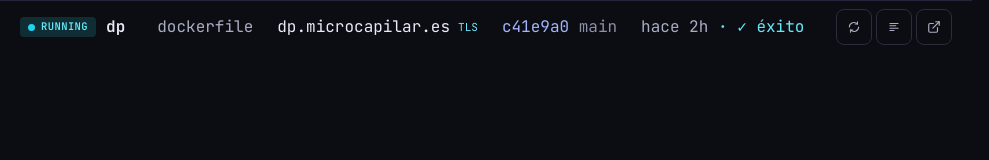
FilaProyecto › muestra el error del deploy si falla al lanzarlo
Click the button named "Deploy de dp".
click(854, 27)  # box [836,9,872,45]
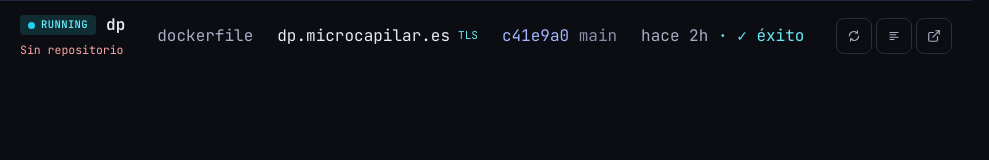
Now the message reads "Sin repositorio", box [20,42,124,57]
